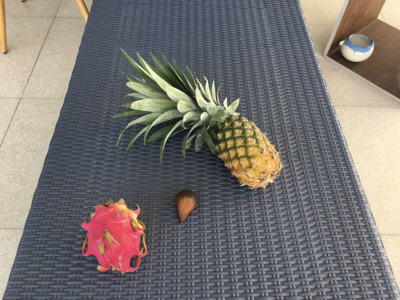dragon fruit: (82, 198, 147, 275)
pineapple: (115, 47, 283, 190)
snake fruit: (174, 189, 198, 222)
